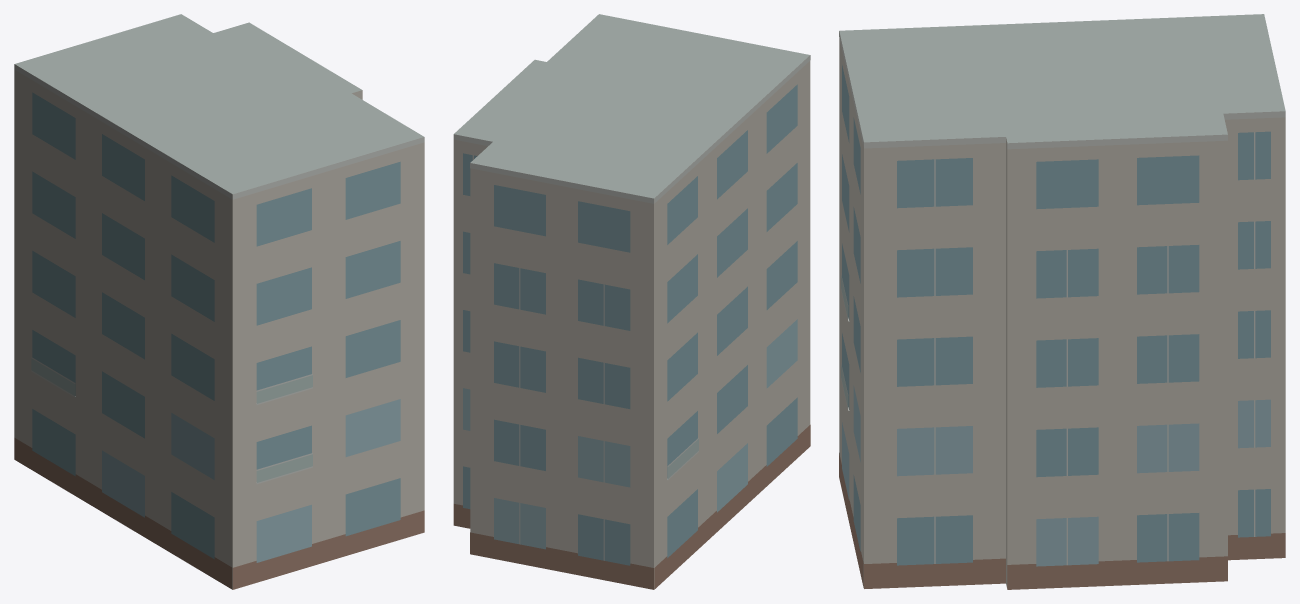
The model's file is survey-upis-32941989.glb.
3 views of the same model, side by side, from view 1: azimuth 30°, elevation 25°; view 2: azimuth 150°, elevation 25°; view 3: azimuth 270°, elevation 25° (orthographic). The views are drawn at different scales.
Parts seen in each view (by area): view 1: survey-upis-32941989.tmp; view 2: survey-upis-32941989.tmp; view 3: survey-upis-32941989.tmp.
Part boxes in pixels (box(x1,y1,x2,y2)): survey-upis-32941989.tmp: box(14, 14, 424, 589); survey-upis-32941989.tmp: box(453, 14, 810, 589); survey-upis-32941989.tmp: box(839, 14, 1285, 589).
Bounding box in the file's own units: 11.08 × 17.85 × 16.18.
